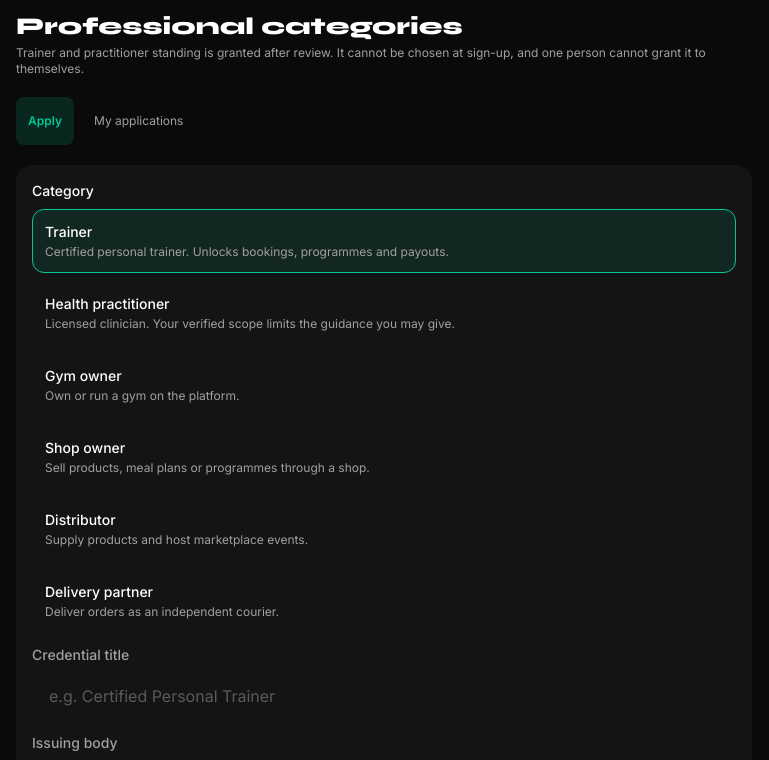
Scenario: CategoryApplication › lists applications, showing a pending one as still ungranted
Click the button "My applications" at point(139, 121), box [82,97,195,145]
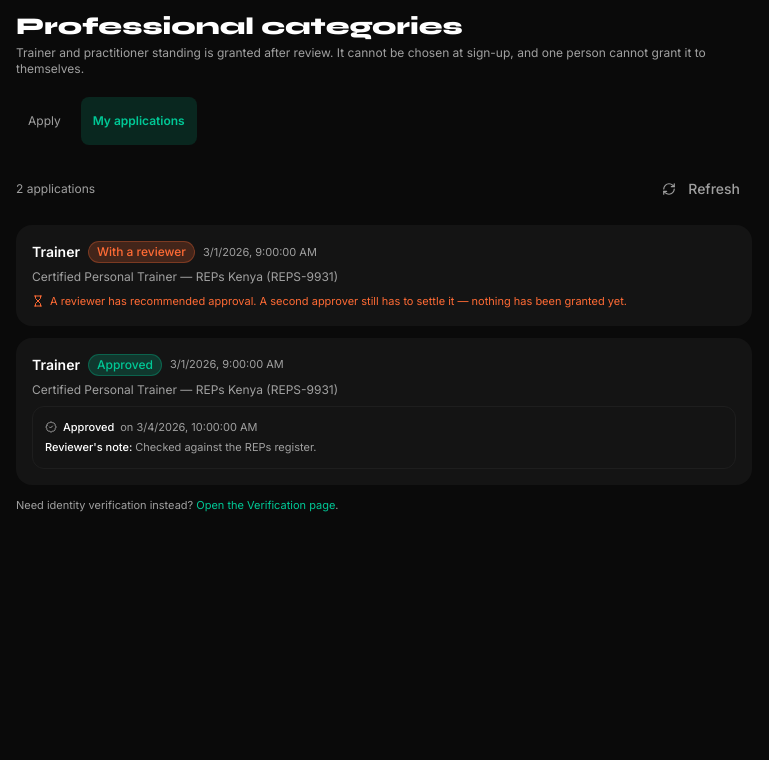
Result: the number of elements with test id "my-application" is 2 at [16,225,752,326]; [16,338,752,484]
Result: the element with test id "my-application" shows "With a reviewer" at [97,244,186,259]
Result: the element with test id "my-application" shows "A second approver still has to settle it" at [253,294,627,308]
